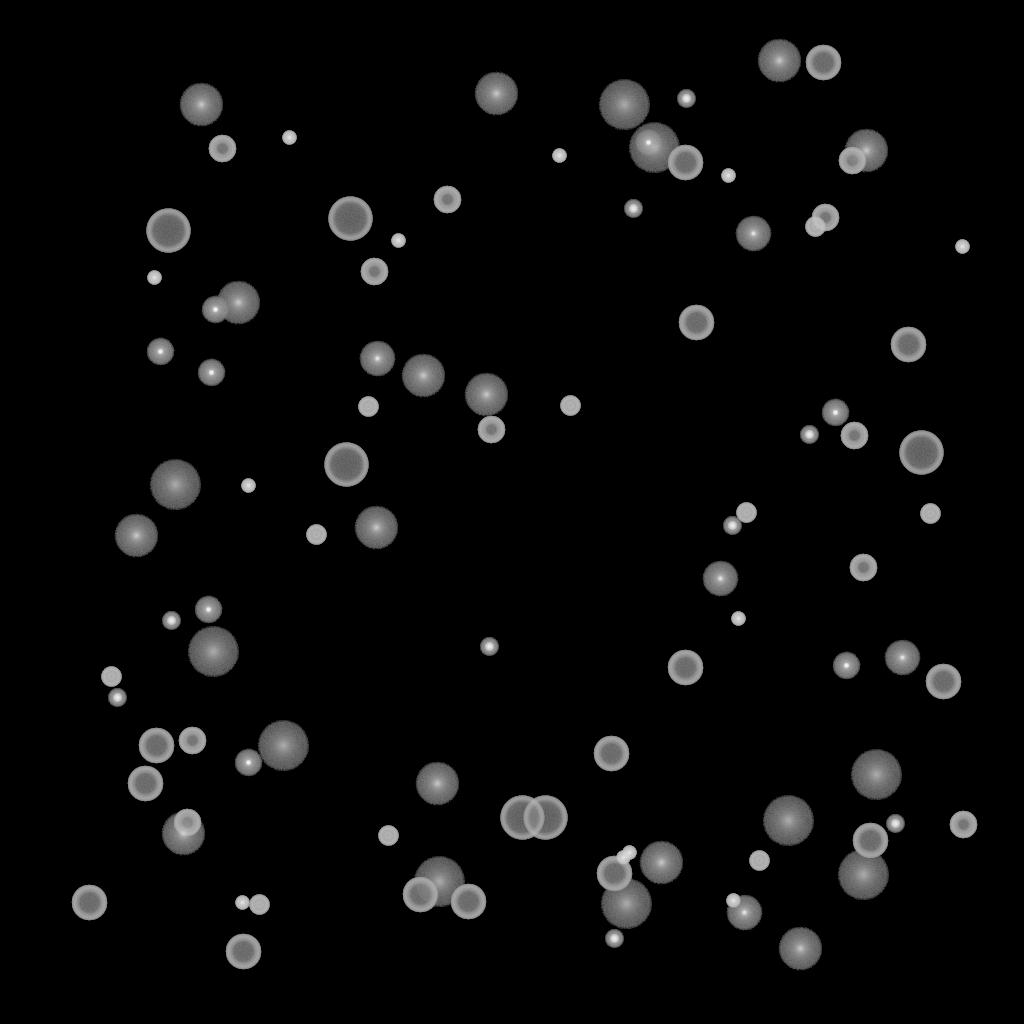depth:-10: (197, 359, 225, 387), (832, 652, 860, 680), (194, 596, 222, 624), (821, 399, 849, 427), (146, 338, 174, 366), (634, 129, 662, 157), (234, 749, 262, 777), (201, 296, 229, 324)
depth:-20: (162, 612, 180, 630), (480, 638, 498, 656), (800, 426, 818, 444), (886, 815, 904, 833), (605, 930, 623, 948), (624, 200, 642, 218), (108, 689, 126, 707), (677, 90, 695, 108), (723, 517, 741, 535)
depth:-30: (726, 894, 740, 908), (721, 169, 735, 183), (622, 846, 636, 860), (616, 851, 630, 865), (552, 149, 566, 163), (282, 131, 296, 145), (391, 234, 405, 248), (241, 479, 255, 493), (147, 271, 161, 285), (955, 240, 969, 254), (235, 896, 249, 910), (731, 612, 745, 626)
depth:-40: (560, 396, 580, 416), (358, 397, 378, 417), (306, 525, 326, 545), (378, 826, 398, 846), (920, 504, 940, 524), (805, 217, 825, 237), (101, 667, 121, 687), (749, 851, 769, 871), (736, 503, 756, 523), (249, 895, 269, 915)
depth:-50: (949, 811, 977, 839), (477, 416, 505, 444), (208, 135, 236, 163), (360, 258, 388, 286), (433, 186, 461, 214), (840, 422, 868, 450), (178, 727, 206, 755), (811, 204, 839, 232), (849, 554, 877, 582), (173, 809, 201, 837), (838, 147, 866, 175)
depth:-60: (852, 823, 888, 859), (593, 736, 629, 772), (450, 884, 486, 920), (890, 327, 926, 363), (667, 145, 703, 181), (402, 877, 438, 913), (225, 934, 261, 970), (925, 664, 961, 700), (71, 885, 107, 921), (678, 305, 714, 341), (596, 856, 632, 892), (127, 766, 163, 802), (667, 650, 703, 686), (138, 728, 174, 764), (805, 45, 841, 81)
depth:-70: (523, 796, 567, 840), (500, 796, 544, 840), (899, 431, 943, 475), (324, 443, 368, 487), (146, 209, 190, 253), (328, 197, 372, 241)
depth:0: (884, 640, 920, 676), (726, 895, 762, 931), (702, 561, 738, 597), (735, 216, 771, 252), (359, 341, 395, 377)
depth:10: (464, 373, 508, 417), (415, 762, 459, 806), (161, 812, 205, 856), (778, 927, 822, 971), (114, 514, 158, 558), (474, 72, 518, 116), (179, 83, 223, 127), (216, 281, 260, 325), (844, 129, 888, 173), (757, 39, 801, 83), (639, 841, 683, 885), (401, 354, 445, 398), (354, 506, 398, 550)
depth:20: (762, 796, 814, 846), (598, 80, 650, 130), (600, 879, 652, 929), (850, 750, 902, 800), (413, 857, 465, 907), (628, 123, 680, 173), (257, 721, 309, 771), (837, 850, 889, 900), (187, 627, 239, 677), (149, 460, 201, 510)
